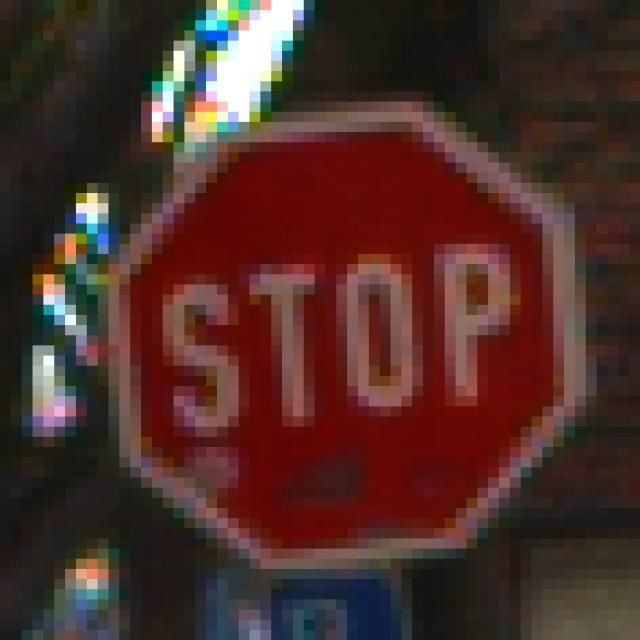STOP: (66, 52, 587, 580)
